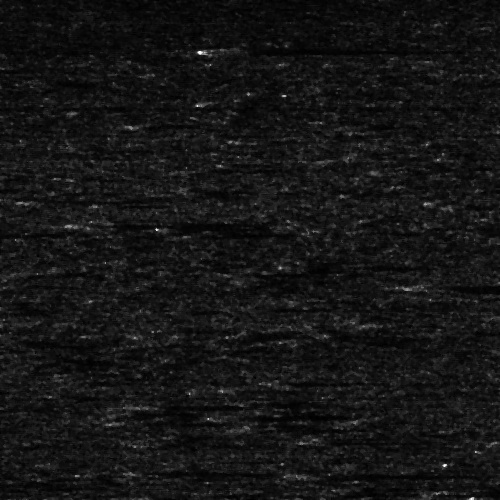object: (0, 193, 96, 204), (73, 414, 156, 425), (176, 44, 269, 53), (376, 280, 449, 289), (300, 434, 373, 443), (51, 220, 124, 227), (246, 421, 287, 432), (430, 487, 493, 494), (278, 469, 319, 478), (115, 467, 168, 472), (218, 412, 249, 415), (174, 403, 195, 406)
shadow: (222, 44, 403, 53), (299, 469, 466, 478), (267, 421, 376, 432), (39, 193, 144, 204), (115, 414, 219, 425), (88, 220, 250, 227), (337, 434, 449, 443), (413, 280, 500, 289), (142, 467, 247, 472), (0, 306, 69, 311), (234, 412, 342, 415), (185, 403, 291, 406), (461, 487, 500, 494), (0, 65, 31, 72), (0, 231, 9, 236)
